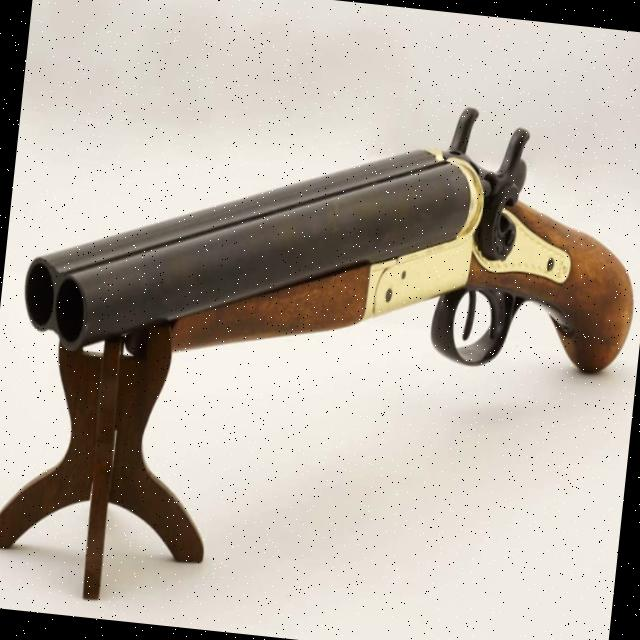Shotgun: (22, 49, 640, 428)
